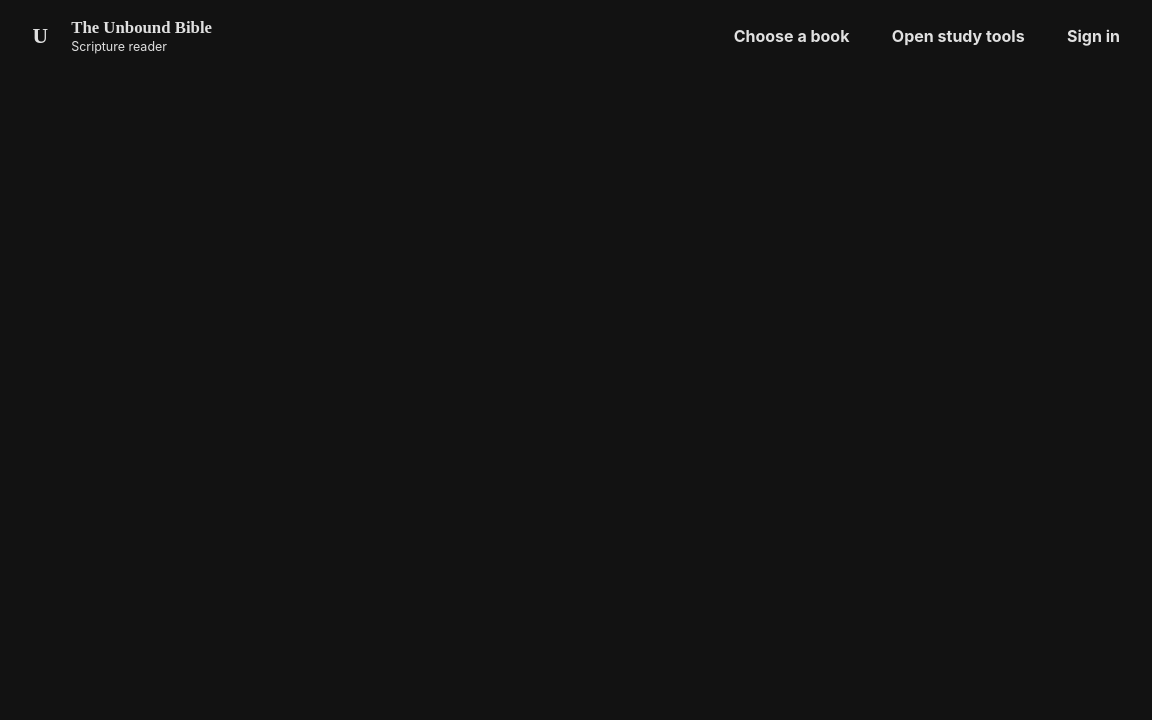
Test case: ReaderHeader › opens and closes the existing authentication dialog for signed-out readers
Click the button "Sign in": (1094, 36) [1051, 12, 1136, 60]
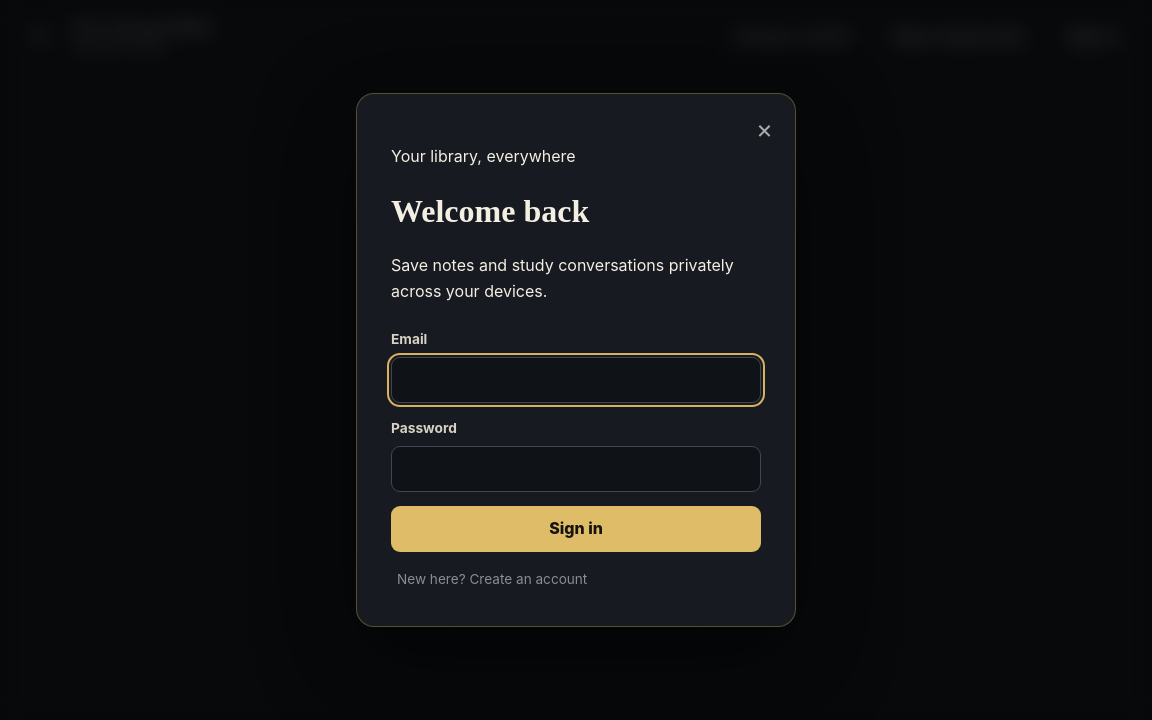
Now the dialog "Welcome back" is shown, box [356, 93, 796, 627]
Click the button named "Close": (765, 130) [750, 108, 779, 151]
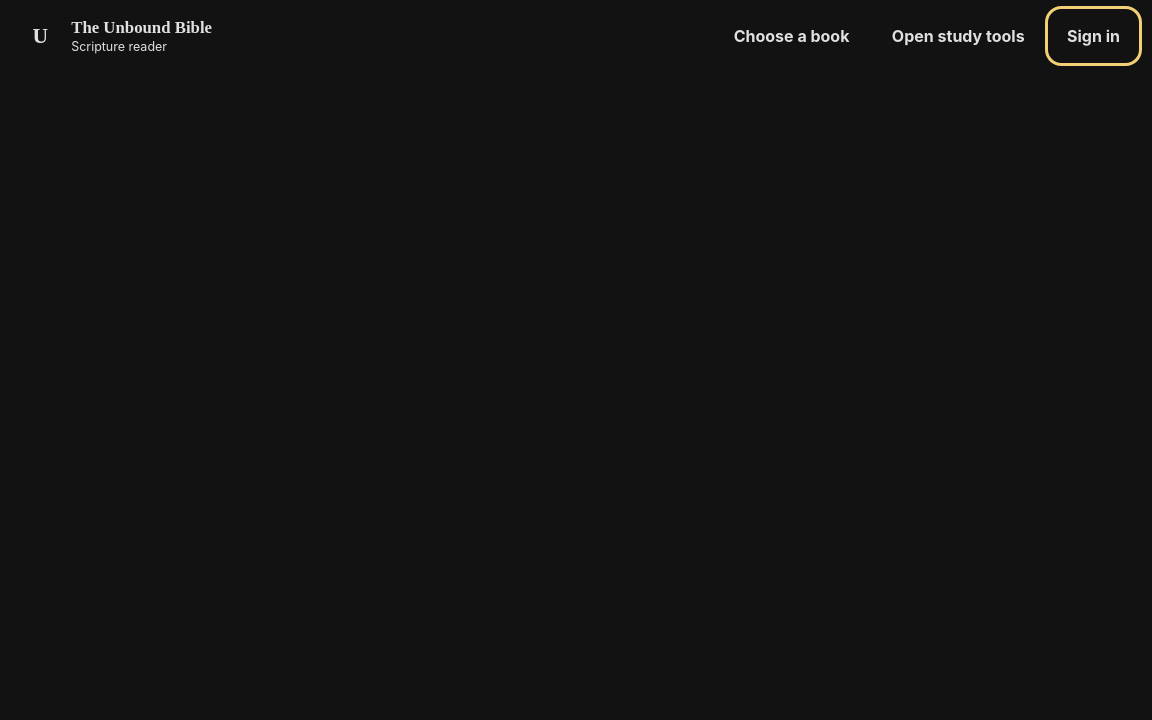
Now the dialog is gone
